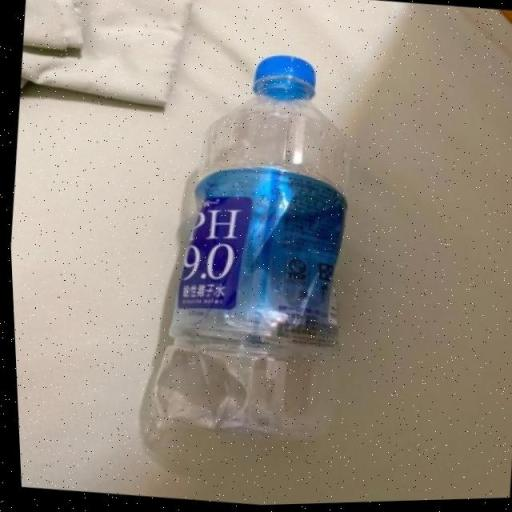plastic: (135, 44, 370, 450)
